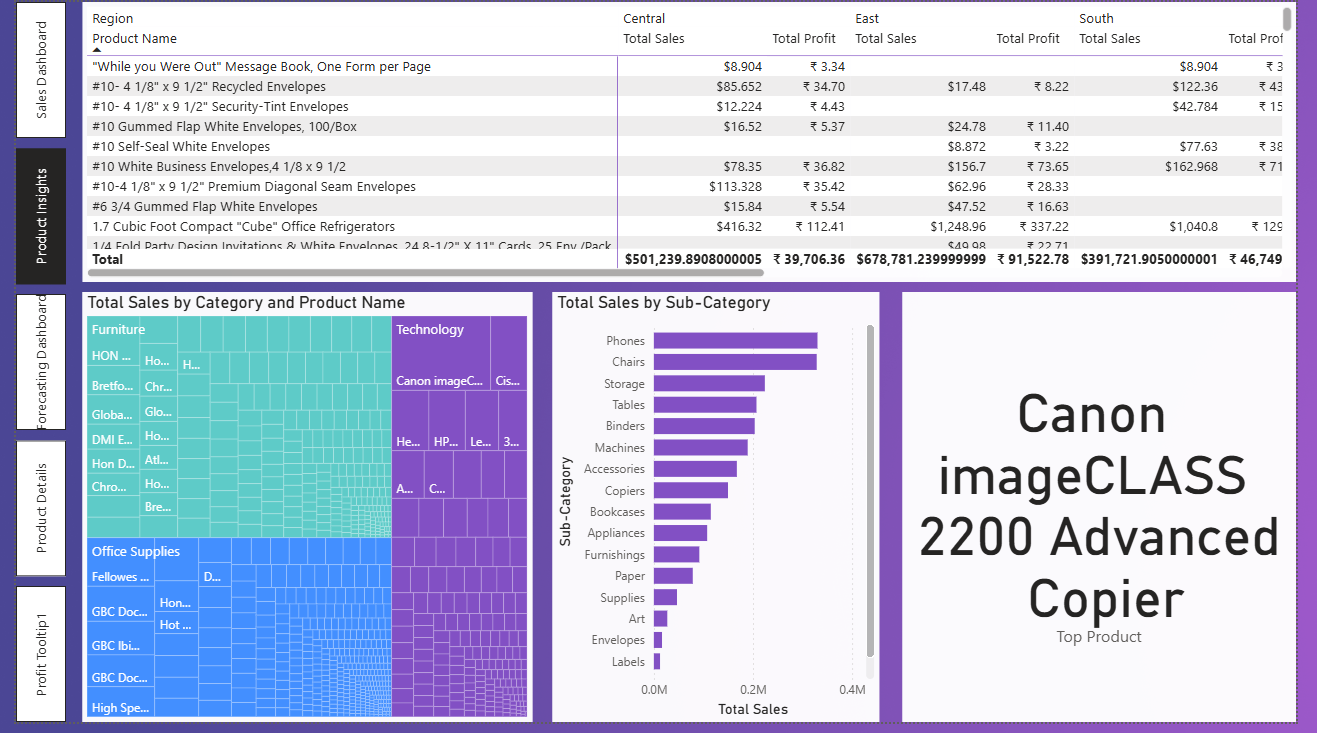

The page's visual inventory and layout, read from the dashboard file:
{"tool":"powerbi","page":{"name":"Product Insights","canvas":[1280,720],"ordinal":1},"visuals":[{"type":"clusteredBarChart","fields":{"Category":["Sample - Superstore.Sub-Category"],"Y":["DateTable.Total Sales"]},"box":[535.7,290,327.1,430],"z":0},{"type":"treemap","fields":{"Group":["Sample - Superstore.Category"],"Values":["DateTable.Total Sales"],"Details":["Sample - Superstore.Product Name"]},"box":[65.7,290,450,430],"z":1000},{"type":"pivotTable","fields":{"Rows":["Sample - Superstore.Product Name"],"Columns":["Sample - Superstore.Region"],"Values":["DateTable.Total Sales","DateTable.Total Profit"]},"box":[65.7,0,1214.3,280],"z":2000},{"type":"card","fields":{"Values":["DateTable.Top Product"]},"box":[885.7,290,394.3,430],"z":3000},{"type":"pageNavigator","box":[0,0,50,720],"z":4000}]}

Visuals, with their boxes in screenshot pixels (x1, y1, x2, y2):
clusteredBarChart - Sample - Superstore.Sub-Category x DateTable.Total Sales: detection(549, 288, 878, 720)
treemap - Sample - Superstore.Category x DateTable.Total Sales: detection(76, 288, 529, 720)
pivotTable - Sample - Superstore.Product Name x Sample - Superstore.Region: detection(76, 0, 1297, 278)
card - DateTable.Top Product: detection(901, 288, 1297, 720)
pageNavigator: detection(10, 0, 61, 720)
